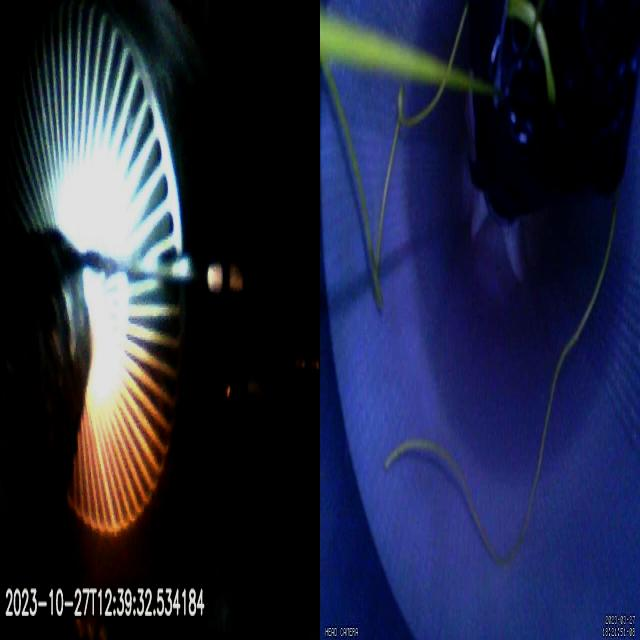white-dots: (206, 262, 244, 294)
